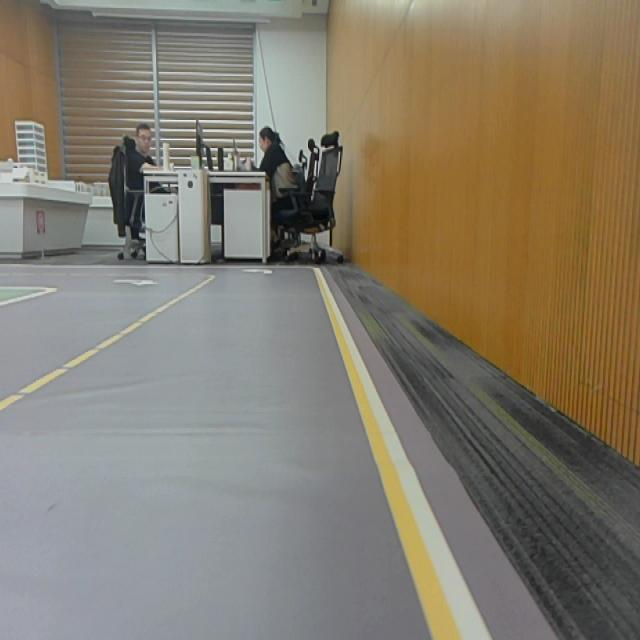left_lane: (0, 279, 210, 412)
right_lane: (314, 270, 464, 640), (1, 290, 54, 307)
